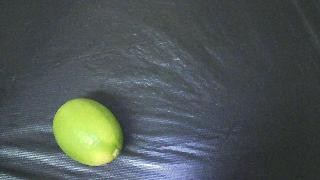LOCAL: (53, 98, 123, 166)
